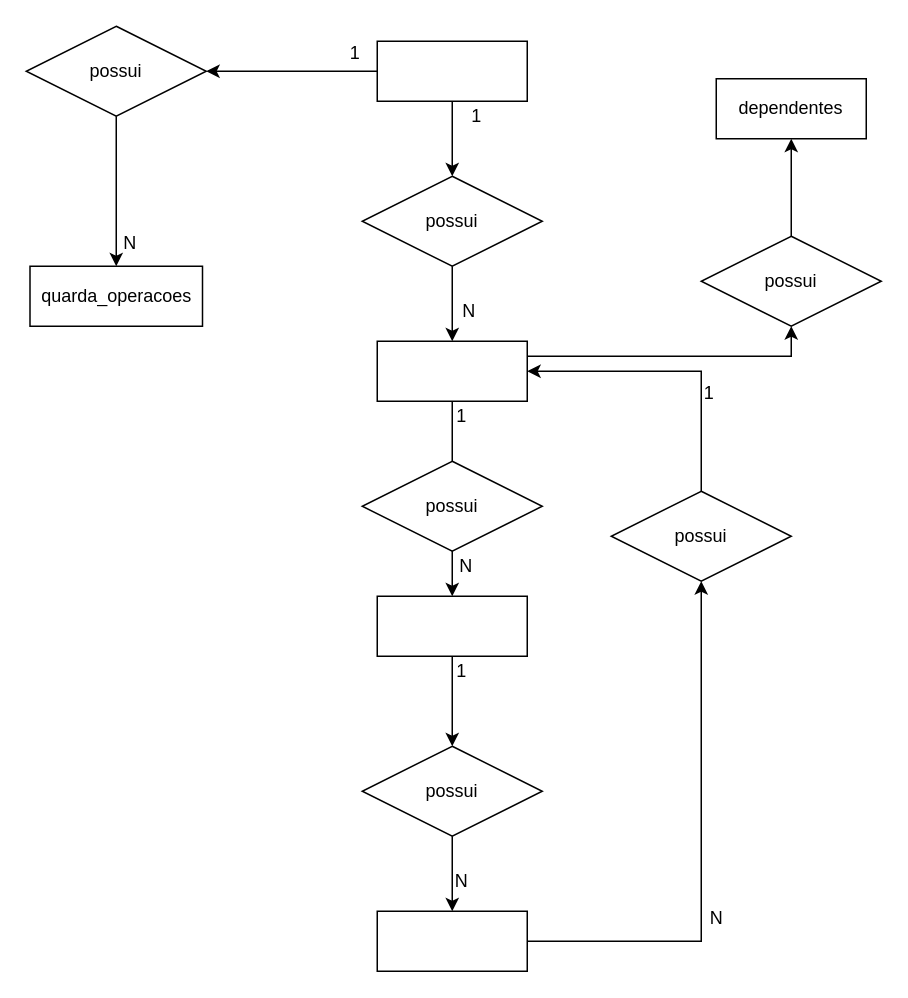
Some shapes in this 908 by 998 pixel diagram are drawn without their labels. The shapes that lost their labels are listed below. From the top down, each one's box as (x1, y1, x2, y2) in pixels, then its label:
(376, 40, 527, 101): empresas
(376, 340, 527, 401): funcionarios
(376, 595, 527, 656): cargos
(376, 910, 527, 971): salario
